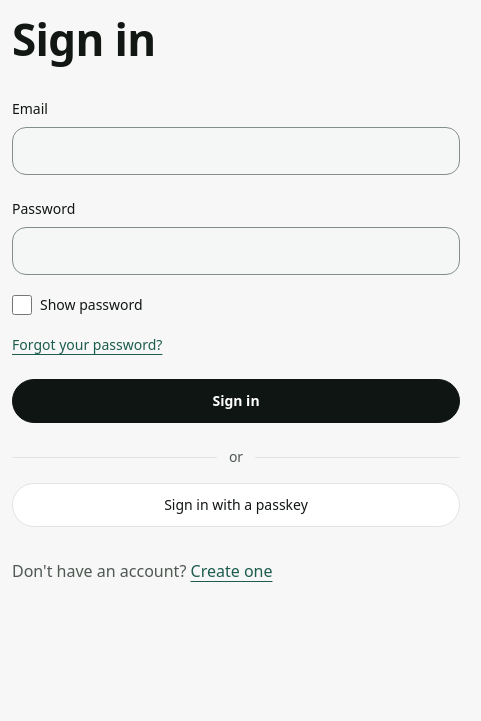
Test: SignInPage › shows one generic message for any failure, clears the password and focuses it
Type "reader@example.com" into the field labelled "Email" at [236, 151], box [12,127,460,175]
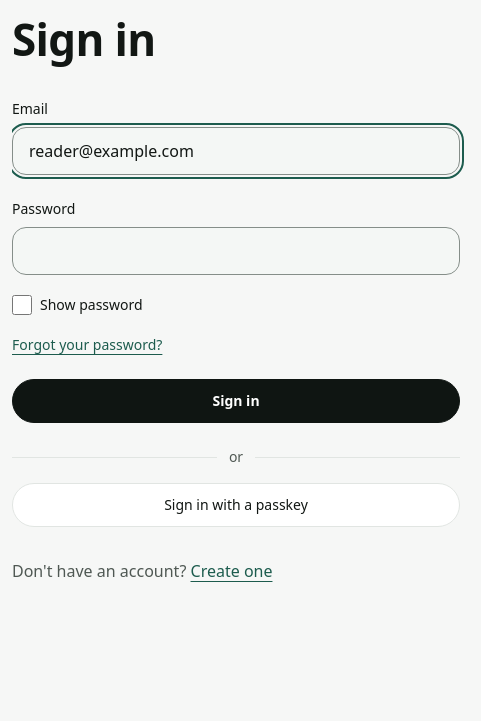
Type "a wrong password here" into the password field labelled "Password" at [236, 251], box [12,227,460,275]
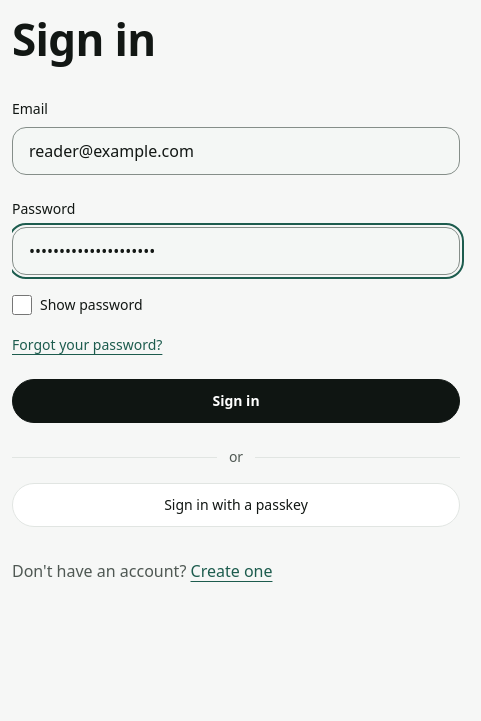
Click the button "Sign in" at [236, 401], box [12,379,460,423]
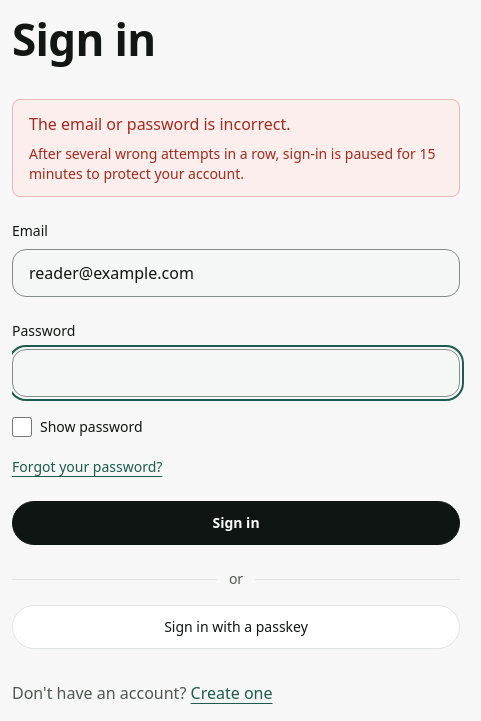
Now the message shows "The email or password is incorrect.", box [29,113,290,135]
Now the password field labelled "Password" is empty, box [12,349,460,397]
